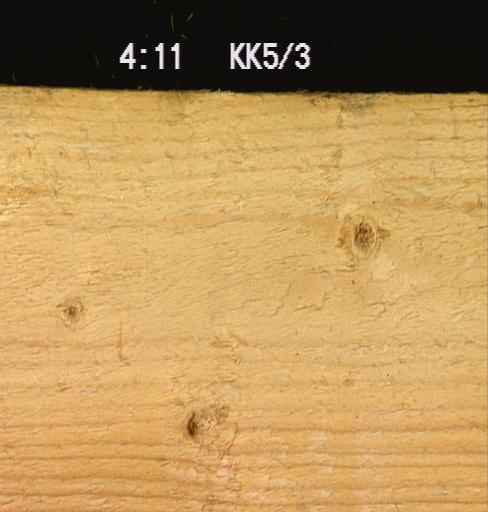small_knot: (59, 295, 83, 321)
sound_knot: (336, 214, 388, 259)
split: (426, 92, 486, 151)
